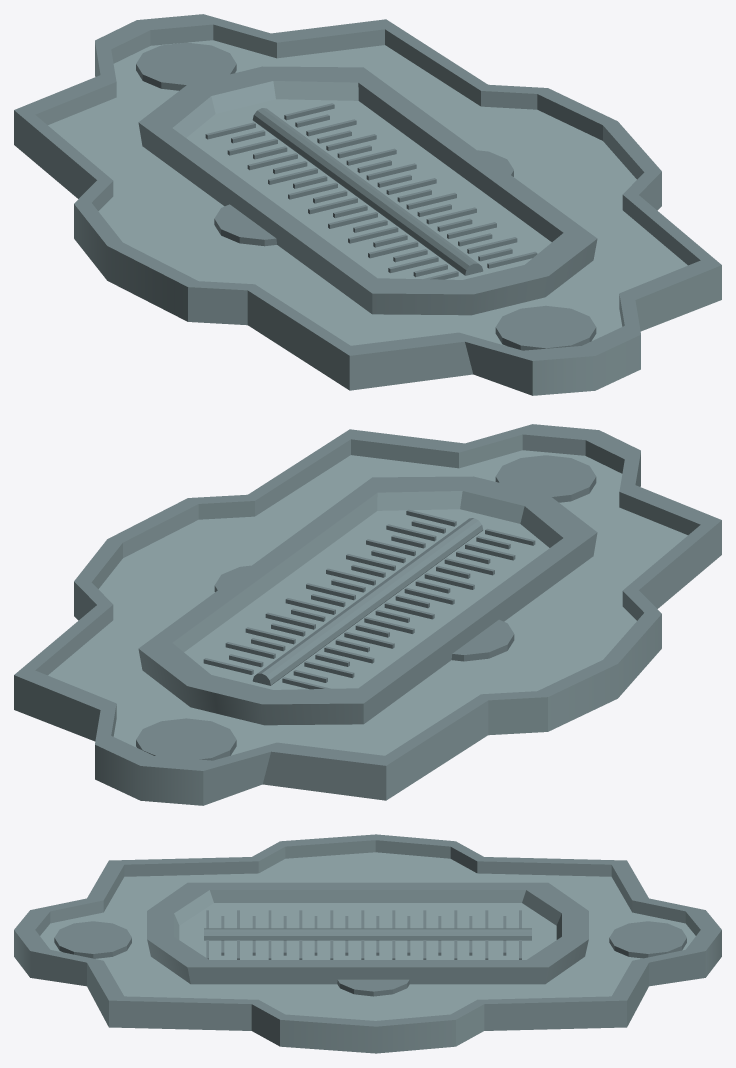
The model's file is TermoColor.fbx.
3 renders of one model, top to bottom at view 1: azimuth 30°, elevation 25°; view 2: azimuth 150°, elevation 25°; view 3: azimuth 270°, elevation 25°, orthographic. The views are drawn at different scales.
Visible parts, largest first — view 1: pCube1, pCube2, pCylinder1, pCylinder3, pCylinder2, pCylinder5; view 2: pCube1, pCube2, pCylinder1, pCylinder2, pCylinder3, pCylinder5; view 3: pCube1, pCube2, pCylinder1, pCylinder3, pCylinder2, pCylinder4.
Boxes of the visible parts, bbox=[...] form: pCube1: bbox=[14, 14, 721, 395]; pCube2: bbox=[138, 66, 597, 315]; pCylinder1: bbox=[252, 108, 483, 275]; pCylinder3: bbox=[495, 305, 596, 350]; pCylinder2: bbox=[136, 42, 236, 90]; pCylinder5: bbox=[214, 204, 276, 246]; pCube1: bbox=[14, 424, 721, 805]; pCube2: bbox=[138, 476, 597, 725]; pCylinder1: bbox=[252, 518, 483, 685]; pCylinder2: bbox=[136, 718, 236, 760]; pCylinder3: bbox=[495, 455, 596, 502]; pCylinder5: bbox=[451, 619, 514, 661]; pCube1: bbox=[14, 834, 721, 1053]; pCube2: bbox=[147, 882, 588, 984]; pCylinder1: bbox=[204, 928, 531, 940]; pCylinder3: bbox=[54, 921, 131, 958]; pCylinder2: bbox=[609, 921, 686, 958]; pCylinder4: bbox=[337, 979, 409, 996].
Bounding box in the file's own units: 6.66 × 0.5228 × 10.36.
